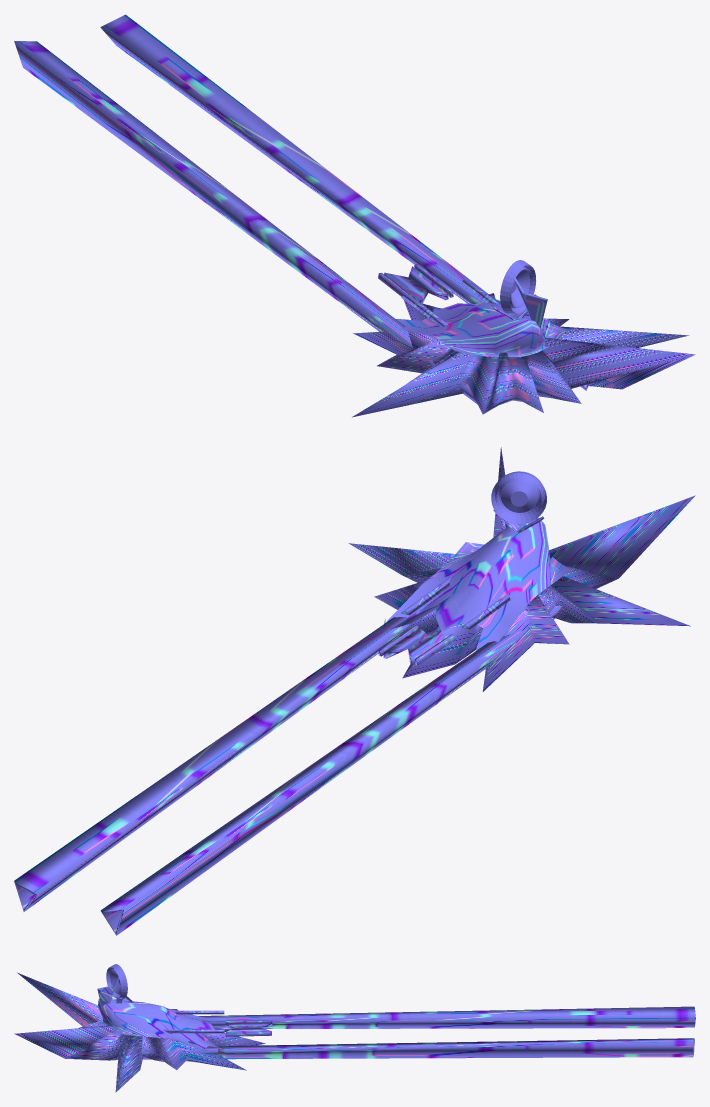
The model's file is gunship5.obj.
3 views of the same model, one above another, from view 1: azimuth 30°, elevation 25°; view 2: azimuth 150°, elevation 25°; view 3: azimuth 270°, elevation 25° (orthographic). The views are drawn at different scales.
Parts seen in each view (by area): view 1: Ship_Body, Gun_2, Gun_1, Driving_Seat, radar; view 2: Ship_Body, Gun_2, Gun_1, Driving_Seat, radar; view 3: Gun_2, Gun_1, Ship_Body, Driving_Seat, radar, Cylinder.001, Gun_Stripes_2, Cylinder, Gun_Stripe_4.
Part boxes in pixels (bbox=[...]): Ship_Body: bbox=[352, 300, 695, 417]; Gun_2: bbox=[14, 41, 477, 404]; Gun_1: bbox=[100, 14, 589, 390]; Driving_Seat: bbox=[396, 293, 566, 357]; radar: bbox=[500, 260, 547, 328]; Ship_Body: bbox=[348, 447, 695, 691]; Gun_2: bbox=[100, 606, 561, 935]; Gun_1: bbox=[14, 617, 410, 911]; Driving_Seat: bbox=[384, 517, 570, 650]; radar: bbox=[491, 471, 546, 523]; Gun_2: bbox=[198, 1006, 695, 1029]; Gun_1: bbox=[141, 1038, 694, 1059]; Ship_Body: bbox=[14, 972, 265, 1092]; Driving_Seat: bbox=[98, 998, 228, 1054]; radar: bbox=[97, 964, 127, 1007]; Cylinder.001: bbox=[164, 1029, 224, 1033]; Gun_Stripes_2: bbox=[225, 1022, 272, 1027]; Cylinder: bbox=[172, 1010, 224, 1014]; Gun_Stripe_4: bbox=[225, 1031, 271, 1036].
Bounding box in the file's own units: 6.99 × 2.57 × 18.85.
